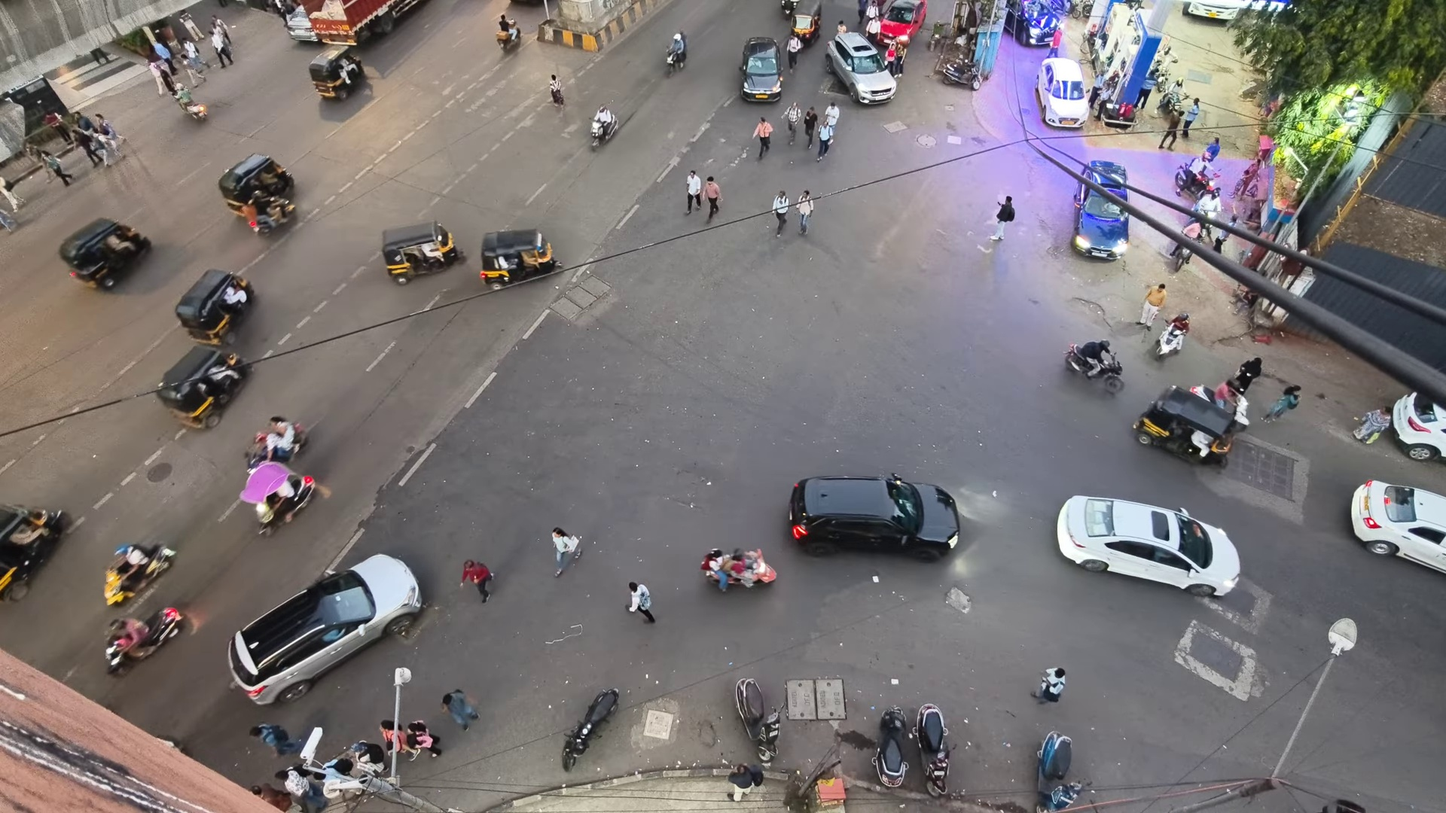driving: (227, 554, 421, 704), (1057, 496, 1239, 596), (789, 475, 959, 561), (1350, 480, 1445, 571), (825, 32, 896, 103), (310, 0, 421, 44), (1072, 183, 1128, 259), (1036, 57, 1088, 127), (1391, 393, 1445, 460), (739, 37, 781, 101)
walking: (276, 768, 328, 812), (250, 723, 304, 755), (380, 719, 419, 758), (443, 689, 478, 730), (1263, 385, 1301, 422), (728, 764, 764, 801), (462, 559, 493, 601), (406, 720, 441, 757), (96, 114, 126, 157), (1138, 283, 1166, 327), (350, 741, 386, 775), (552, 528, 578, 575), (1031, 668, 1065, 702), (40, 150, 72, 186), (250, 785, 292, 811), (74, 129, 103, 166), (182, 40, 204, 85), (991, 197, 1014, 240), (629, 583, 654, 622), (1234, 357, 1261, 392), (148, 59, 175, 94), (212, 23, 233, 68), (43, 112, 72, 144), (1159, 108, 1182, 148), (183, 38, 209, 73), (0, 176, 24, 211), (795, 190, 814, 234), (753, 117, 772, 159), (1136, 72, 1158, 108), (772, 190, 789, 236), (1181, 98, 1200, 139), (784, 102, 802, 145), (703, 176, 720, 221), (685, 170, 702, 214), (816, 118, 833, 161), (1087, 72, 1106, 109), (153, 42, 175, 73), (803, 107, 818, 147), (786, 33, 801, 72), (212, 14, 230, 46), (895, 37, 909, 76), (1047, 25, 1063, 57), (1203, 136, 1221, 162), (549, 74, 563, 105), (884, 42, 896, 75), (0, 209, 17, 232), (824, 102, 840, 126), (858, 0, 870, 26), (837, 20, 847, 34)
